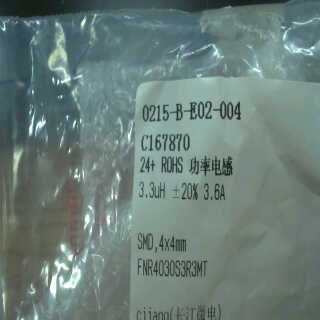3.3uH: (135, 176, 169, 204)
